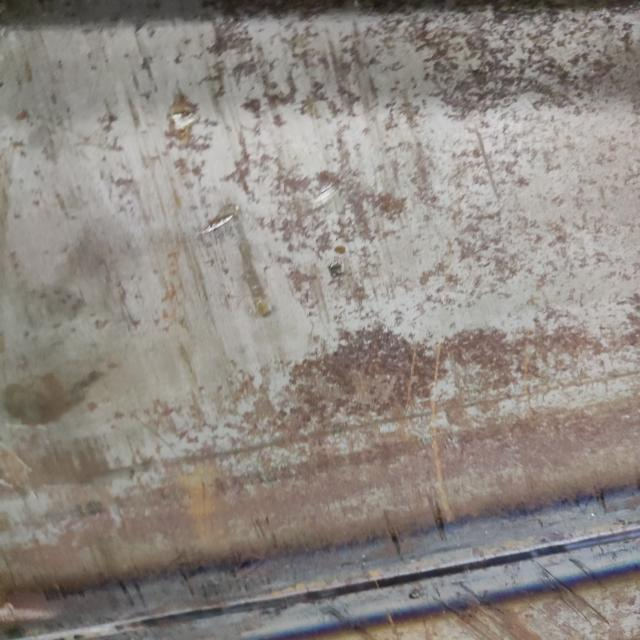seam: (0, 469, 640, 640)
